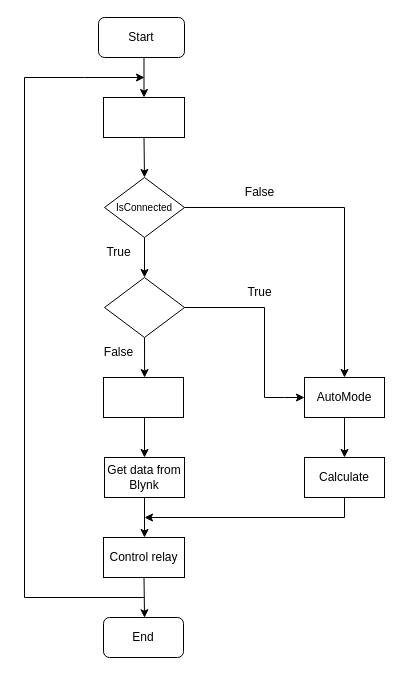
Some shapes in this 402 by 675 pixel diagram are drawn without their labels. The box of each missing label's shape, as (x1, y1, x2, y2) in pixels:
IsAuto: (104, 276, 184, 338)
ReadSensor (DHT11, M9BI): (102, 96, 184, 138)
Send data to Blynk: (102, 376, 184, 418)
